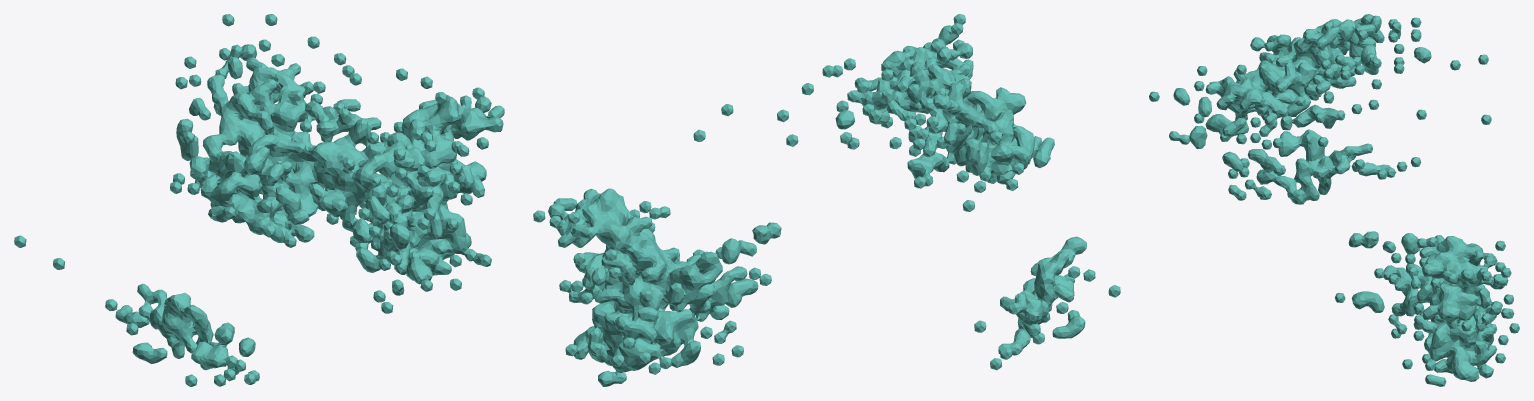
File: blue.obj
3 renders of one model, left to right at view 1: azimuth 30°, elevation 25°; view 2: azimuth 150°, elevation 25°; view 3: azimuth 270°, elevation 25°, orthographic. The views are drawn at different scales.
Visible parts, largest first — view 1: fekcorr.stl.003; view 2: fekcorr.stl.003; view 3: fekcorr.stl.003.
Part boxes in pixels (bbox=[...]): fekcorr.stl.003: bbox=[14, 14, 504, 386]; fekcorr.stl.003: bbox=[533, 14, 1120, 386]; fekcorr.stl.003: bbox=[1149, 14, 1519, 386].
Size of the model in its own units: 89.94 by 57.68 by 73.69.
